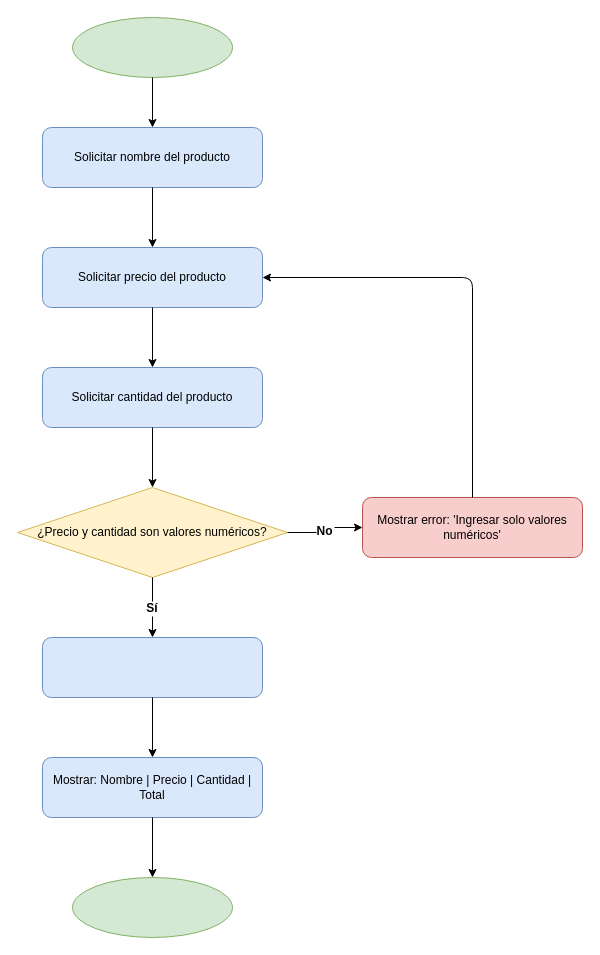
The diagram is 600 pixels wide and 955 high, and some of its shapes have lost their labels. The shapes that lost their labels are listed below. From the top down, each one's box as (x1, y1, x2, y2) in pixels, then its label:
(72, 16, 232, 78): INICIO
(42, 636, 262, 698): Calcular costo_total = precio × cantidad
(72, 876, 232, 938): FIN
